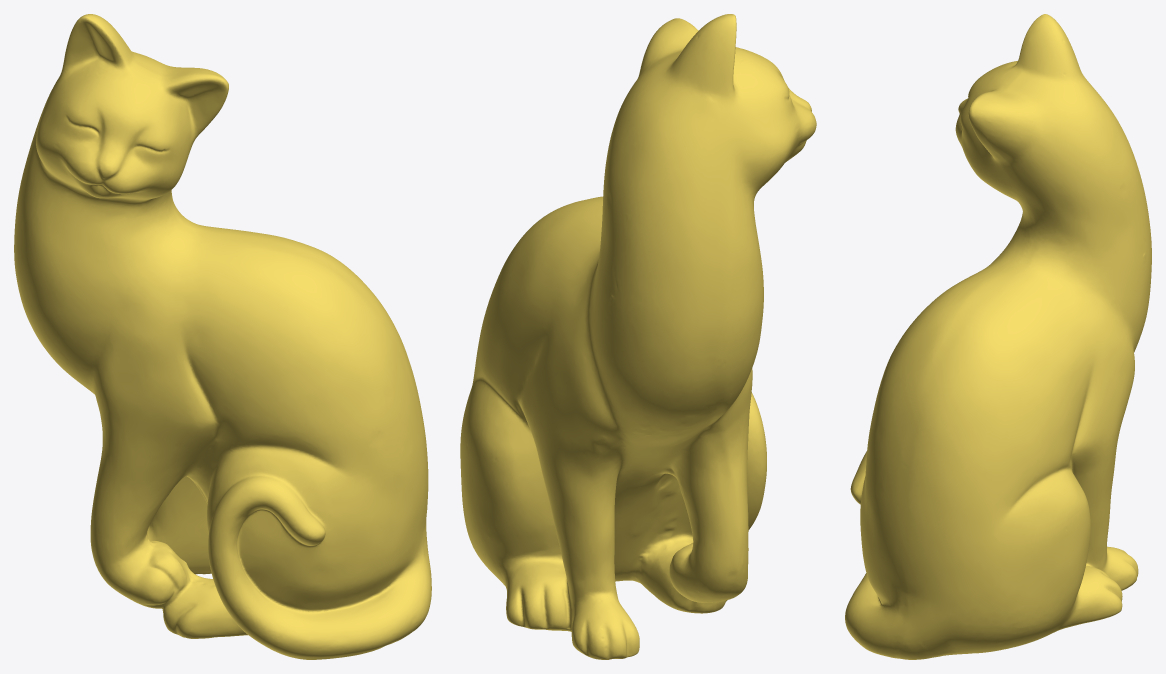
The model's file is deus.glb.
The picture shows the model from 3 angles, left to right: view 1: azimuth 30°, elevation 25°; view 2: azimuth 150°, elevation 25°; view 3: azimuth 270°, elevation 25°; orthographic projection. The views are drawn at different scales.
Parts seen in each view (by area): view 1: Object_2; view 2: Object_2; view 3: Object_2.
Boxes of the visible parts, <box> form: Object_2: <box>14,14,431,659</box>; Object_2: <box>460,14,816,659</box>; Object_2: <box>845,14,1151,659</box>.
Bounding box in the file's own units: 110 × 193 × 99.17.
